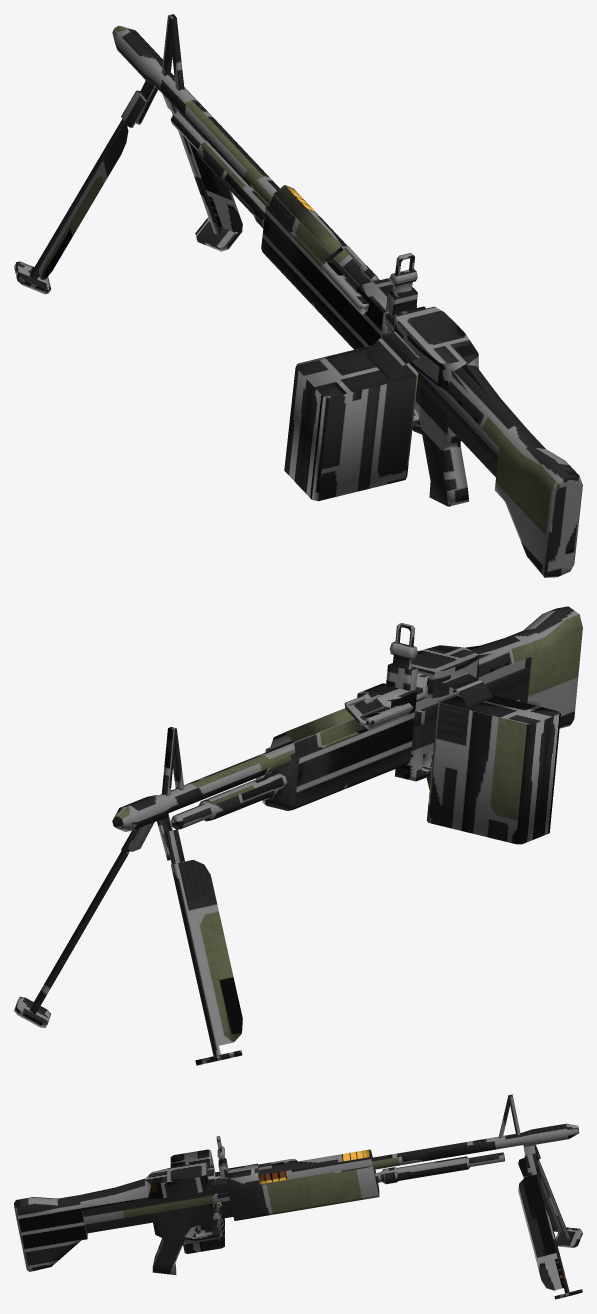
The model's file is M60_World.fbx.
3 views of the same model, one above another, from view 1: azimuth 30°, elevation 25°; view 2: azimuth 150°, elevation 25°; view 3: azimuth 270°, elevation 25° (orthographic). The views are drawn at different scales.
Visible parts, largest first — view 1: M60_World; view 2: M60_World; view 3: M60_World.
Boxes of the visible parts, x1,y1,x2,y2 form: M60_World: (14, 14, 582, 577); M60_World: (14, 606, 582, 1065); M60_World: (14, 1094, 582, 1299).
Bounding box in the file's own units: 0.1992 × 0.6804 × 0.2341.
